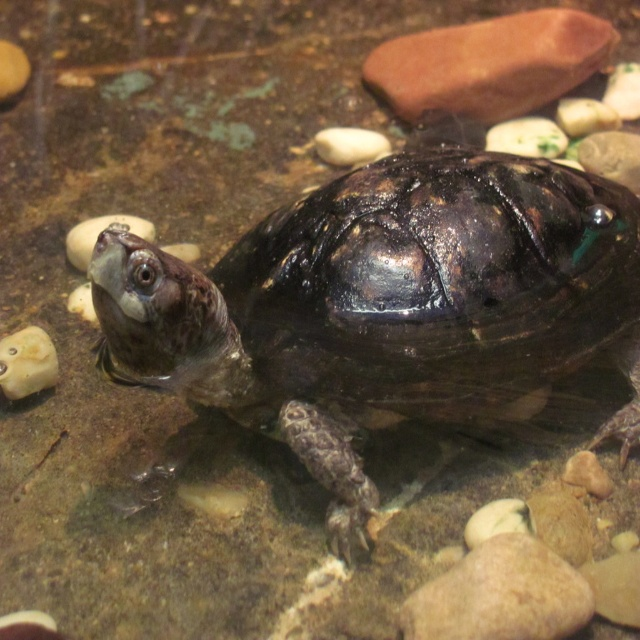Tortoise: (86, 137, 640, 565)
